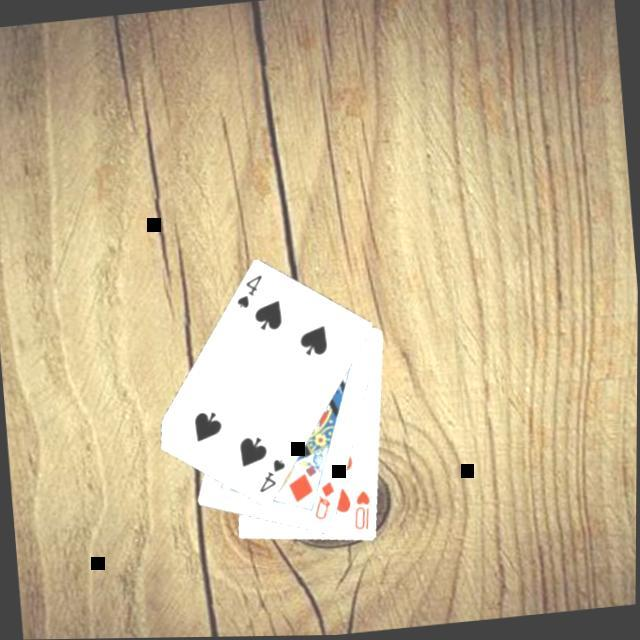10H: (347, 489, 375, 537)
4S: (252, 458, 289, 498), (230, 274, 266, 315)
QD: (307, 480, 339, 526)
